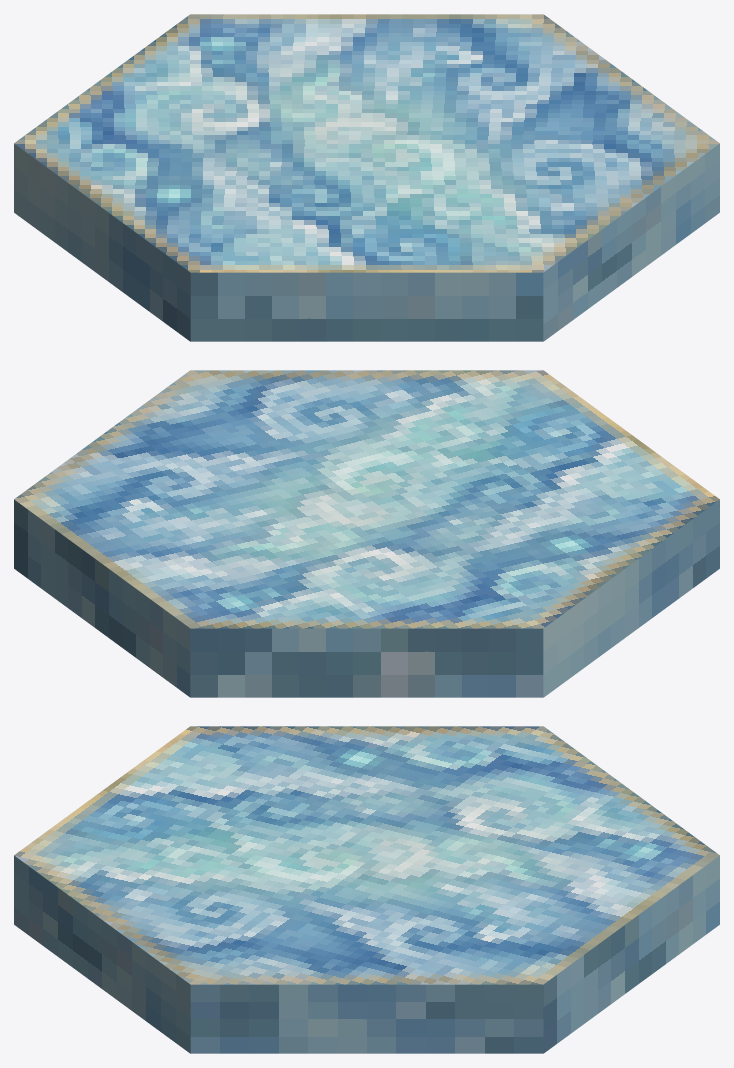
The model's file is world_cloud_tile.fbx.
3 views of the same model, one above another, from view 1: azimuth 30°, elevation 25°; view 2: azimuth 150°, elevation 25°; view 3: azimuth 270°, elevation 25° (orthographic).
Visible parts, largest first — view 1: cylinder; view 2: cylinder; view 3: cylinder.
Part boxes in pixels (x1=…): cylinder: x1=14, y1=14, x2=719, y2=341; cylinder: x1=14, y1=370, x2=719, y2=697; cylinder: x1=14, y1=726, x2=719, y2=1053.
Size of the model in its own units: 100 by 12.5 by 115.
Materials: 1 (1 with a texture image).
